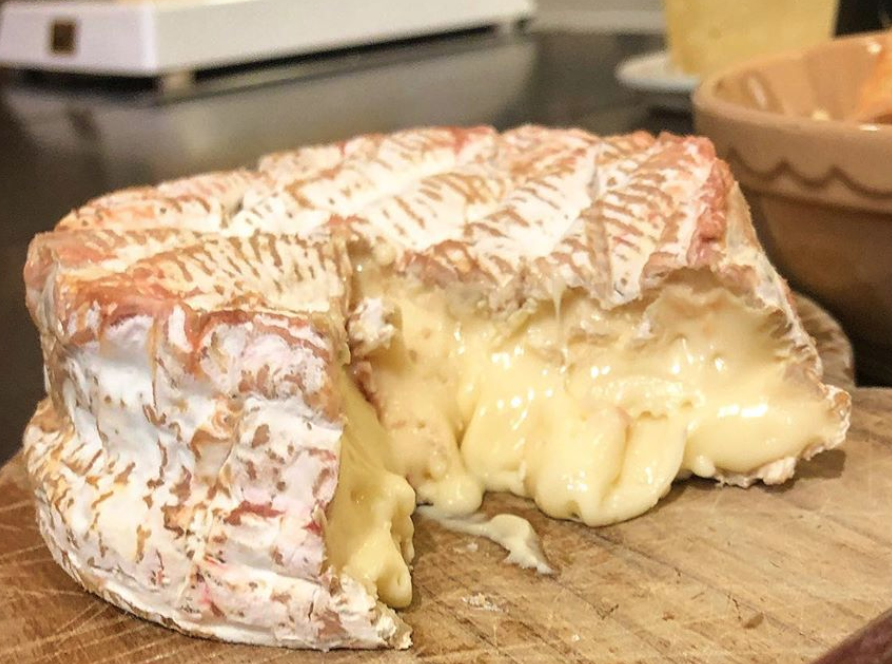camembert: (21, 122, 858, 652)
